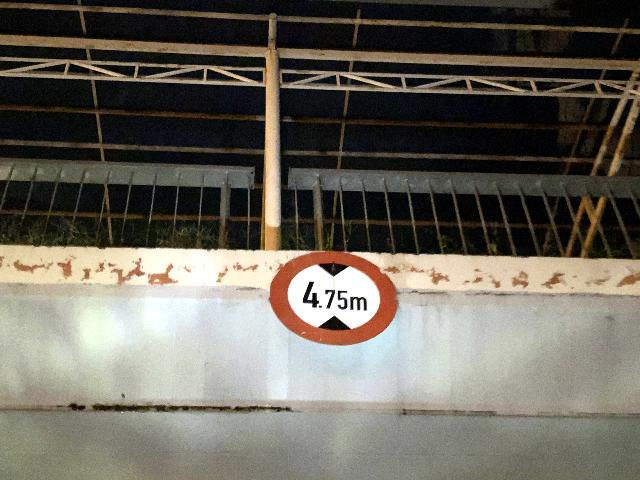han-che-chieu-cao: (270, 250, 398, 344)
